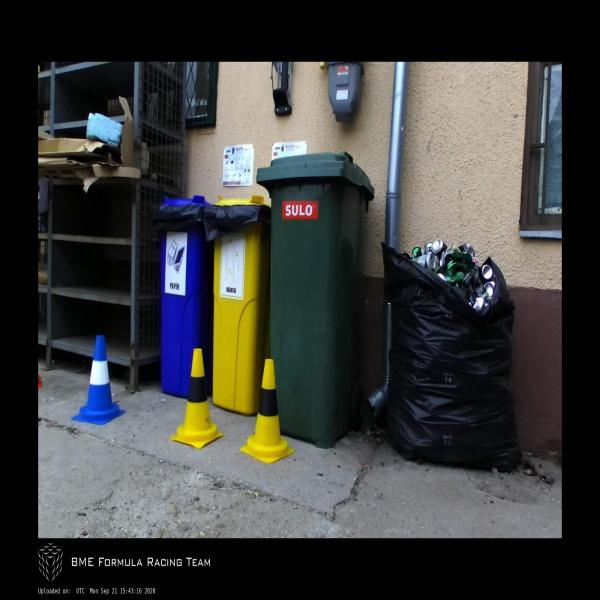blue_cone: (71, 335, 126, 425)
yellow_cone: (241, 359, 294, 463), (172, 350, 224, 449)
